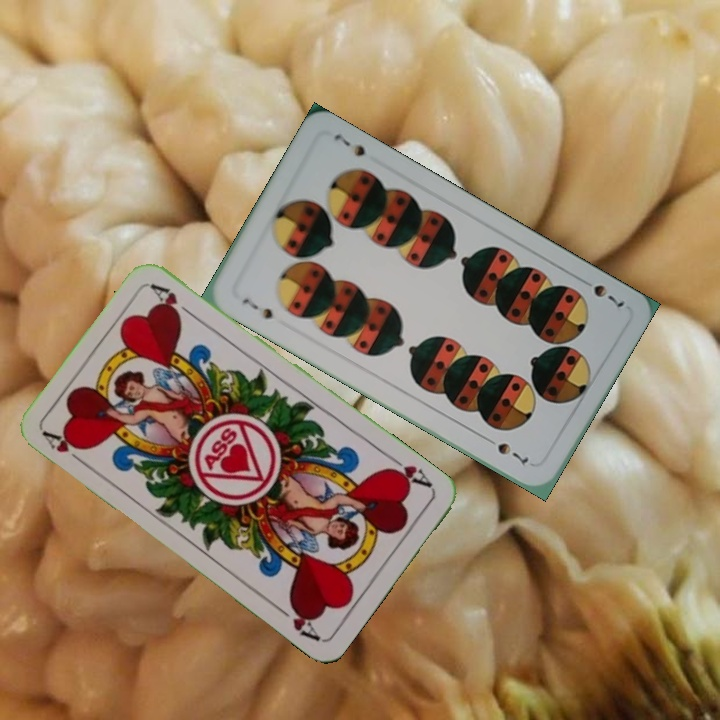HA: (382, 451, 436, 491), (39, 427, 90, 469)
S7: (575, 273, 627, 310), (238, 294, 276, 322)
